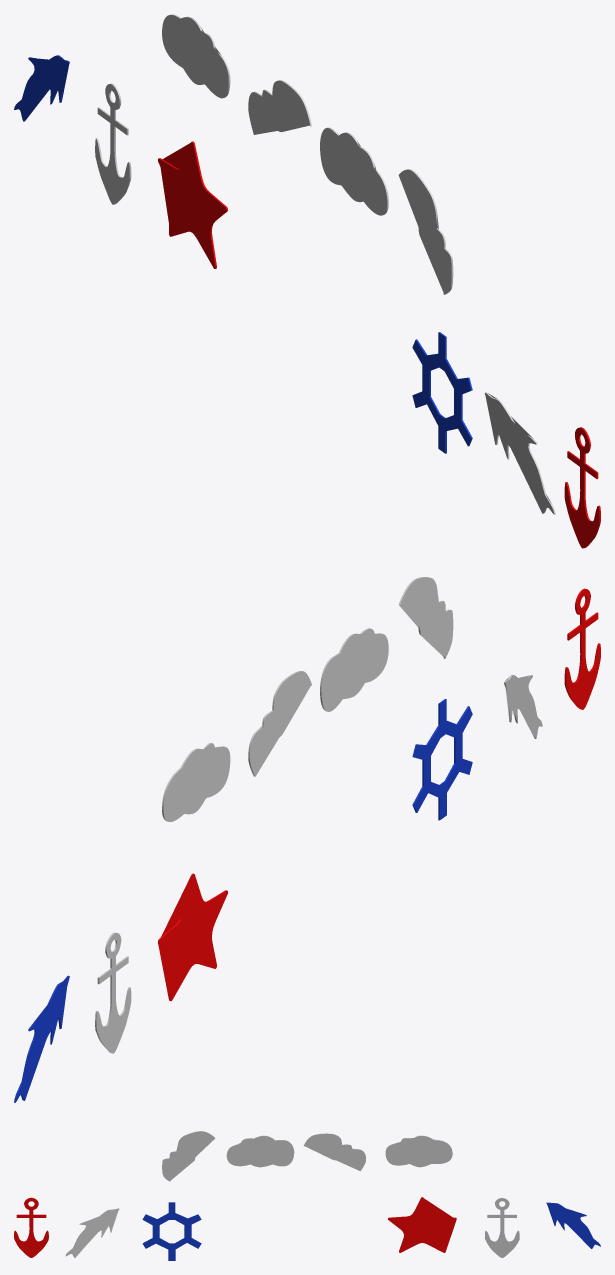
The model's file is TNK-12.fbx.
The picture shows the model from 3 angles, top to bottom: view 1: azimuth 30°, elevation 25°; view 2: azimuth 150°, elevation 25°; view 3: azimuth 270°, elevation 25°; orthographic projection. The views are drawn at different scales.
Visible parts, largest first — view 1: zvezda, oblako_2, oblako, chaika_2, wturval, delfin, chaika, iakorb, iakorb_2, Extrude_6; view 2: zvezda, oblako_2, oblako, wturval, chaika_2, chaika, Extrude_6, iakorb, iakorb_2, delfin; view 3: zvezda, oblako_2, oblako, chaika_2, wturval, chaika, Extrude_6, delfin, iakorb, iakorb_2.
Boxes of the visible parts, x1,y1,x2,y2 form: zvezda: (158, 141, 227, 268); oblako_2: (320, 127, 388, 215); oblako: (162, 14, 230, 98); chaika_2: (398, 169, 453, 294); wturval: (412, 332, 472, 453); delfin: (484, 392, 555, 514); chaika: (248, 80, 311, 134); iakorb: (564, 427, 600, 548); iakorb_2: (95, 83, 131, 204); Extrude_6: (14, 55, 69, 121); zvezda: (158, 873, 227, 1001); oblako_2: (320, 628, 388, 711); oblako: (162, 743, 230, 821); wturval: (412, 699, 472, 820); chaika_2: (398, 577, 453, 658); chaika: (248, 671, 311, 776); Extrude_6: (14, 975, 69, 1102); iakorb: (564, 588, 600, 709); iakorb_2: (95, 932, 131, 1053); delfin: (504, 674, 542, 738); zvezda: (388, 1197, 456, 1252); oblako_2: (226, 1135, 294, 1167); oblako: (385, 1135, 452, 1167); chaika_2: (162, 1131, 215, 1181); wturval: (142, 1202, 201, 1260); chaika: (304, 1133, 365, 1171); Extrude_6: (546, 1202, 600, 1248); delfin: (66, 1208, 119, 1257); iakorb: (14, 1197, 48, 1257); iakorb_2: (485, 1197, 519, 1257).
Size of the model in its own units: 11.67 by 161 by 662.
